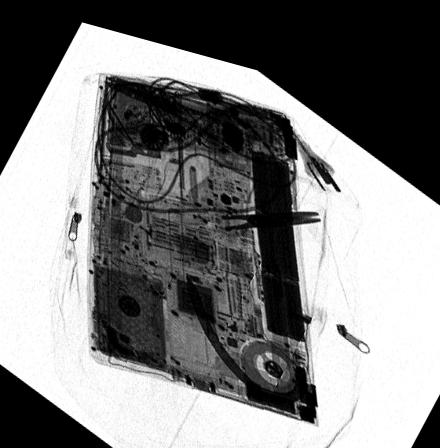Scissors: (167, 185, 324, 253)
